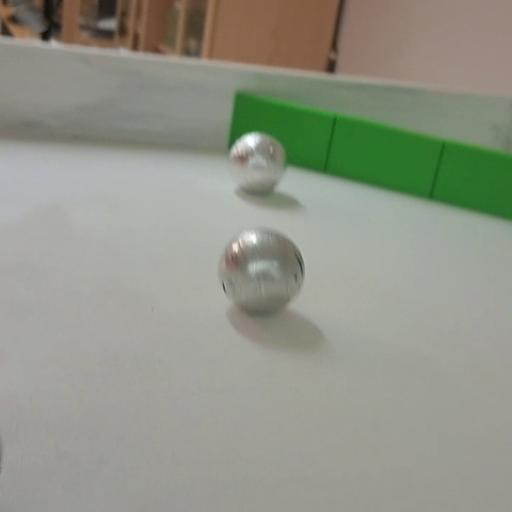alive: (218, 227, 308, 318), (226, 130, 288, 198)
